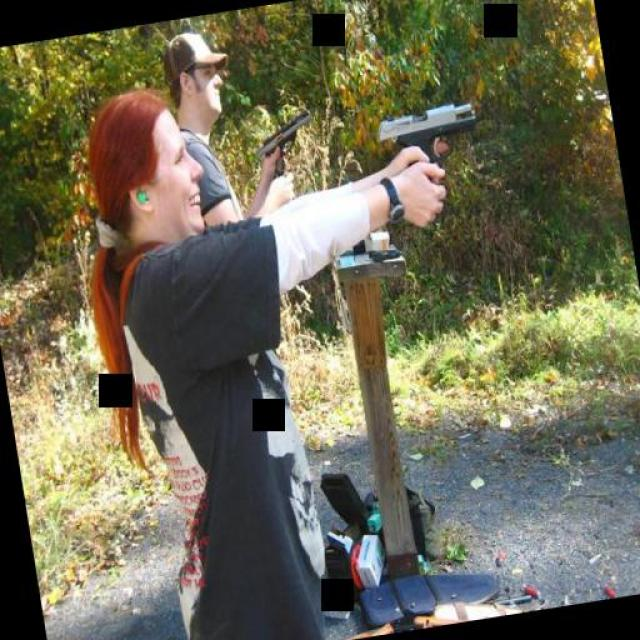gun: (370, 92, 485, 190), (242, 102, 324, 188)
